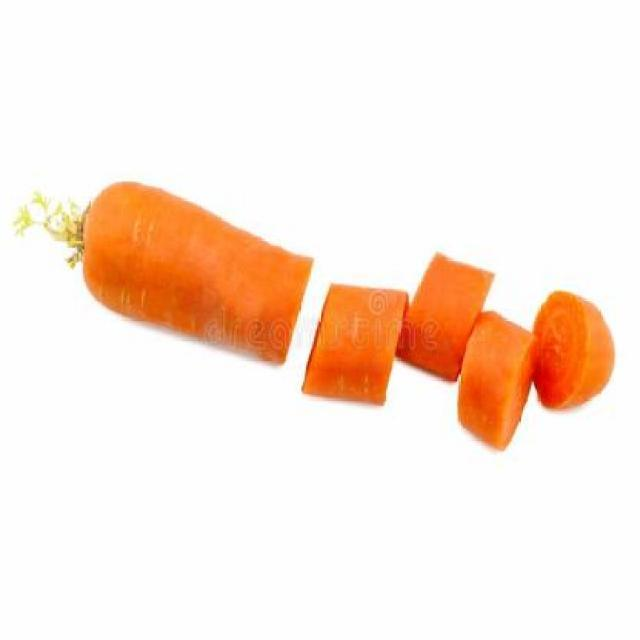carrot: (16, 166, 320, 378)
